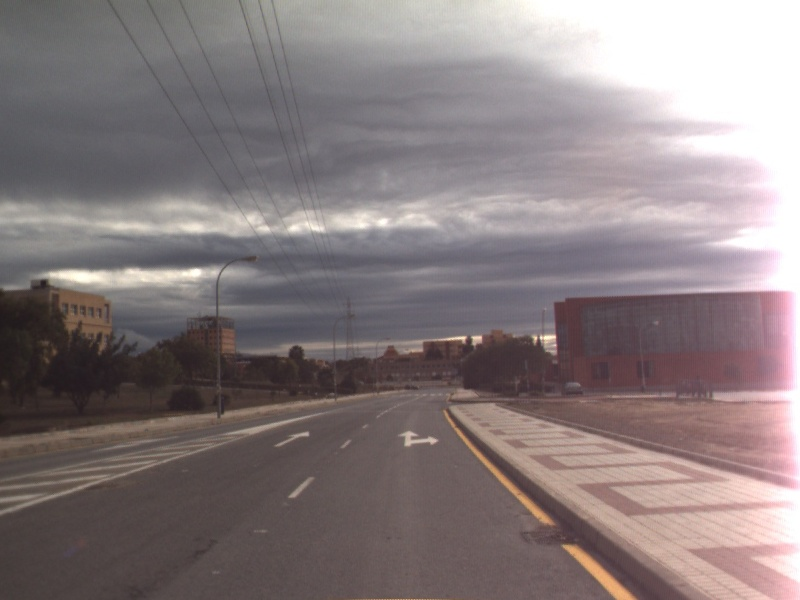STRAIGHT: (272, 429, 312, 449)
STRAIGHT_RIGHT: (396, 428, 441, 449)
